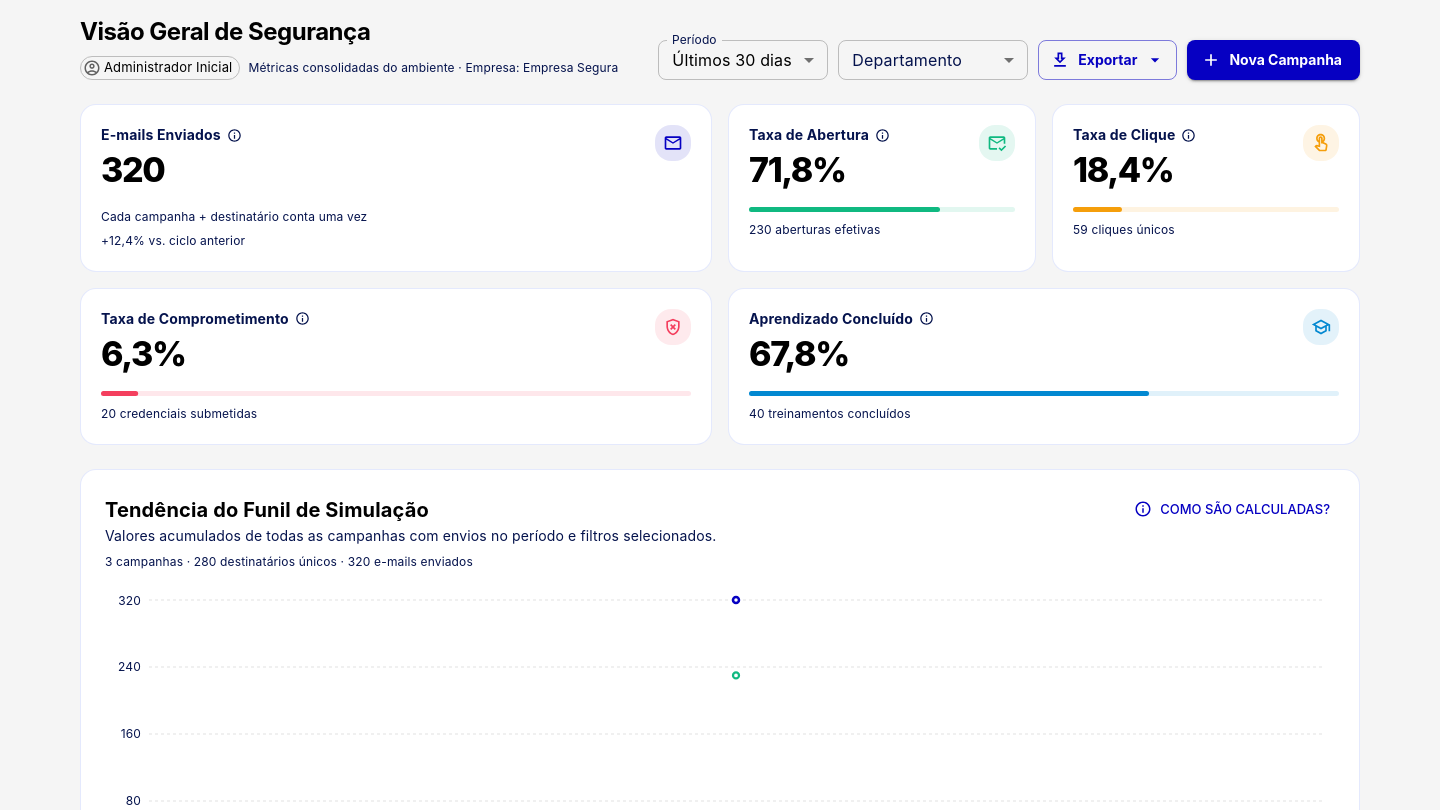
Scenario: AdminDashboard — visão executiva essencial › exporta PDF com token, filtros ativos e filename UTF-8 do backend
Check: the text "Empresa Segura" is shown, box [523, 60, 618, 75]
What coordinates should you click on to do the following:
click the button "Exportar"
I would click on:
 (1108, 60)
Its box is [1038, 40, 1177, 80].
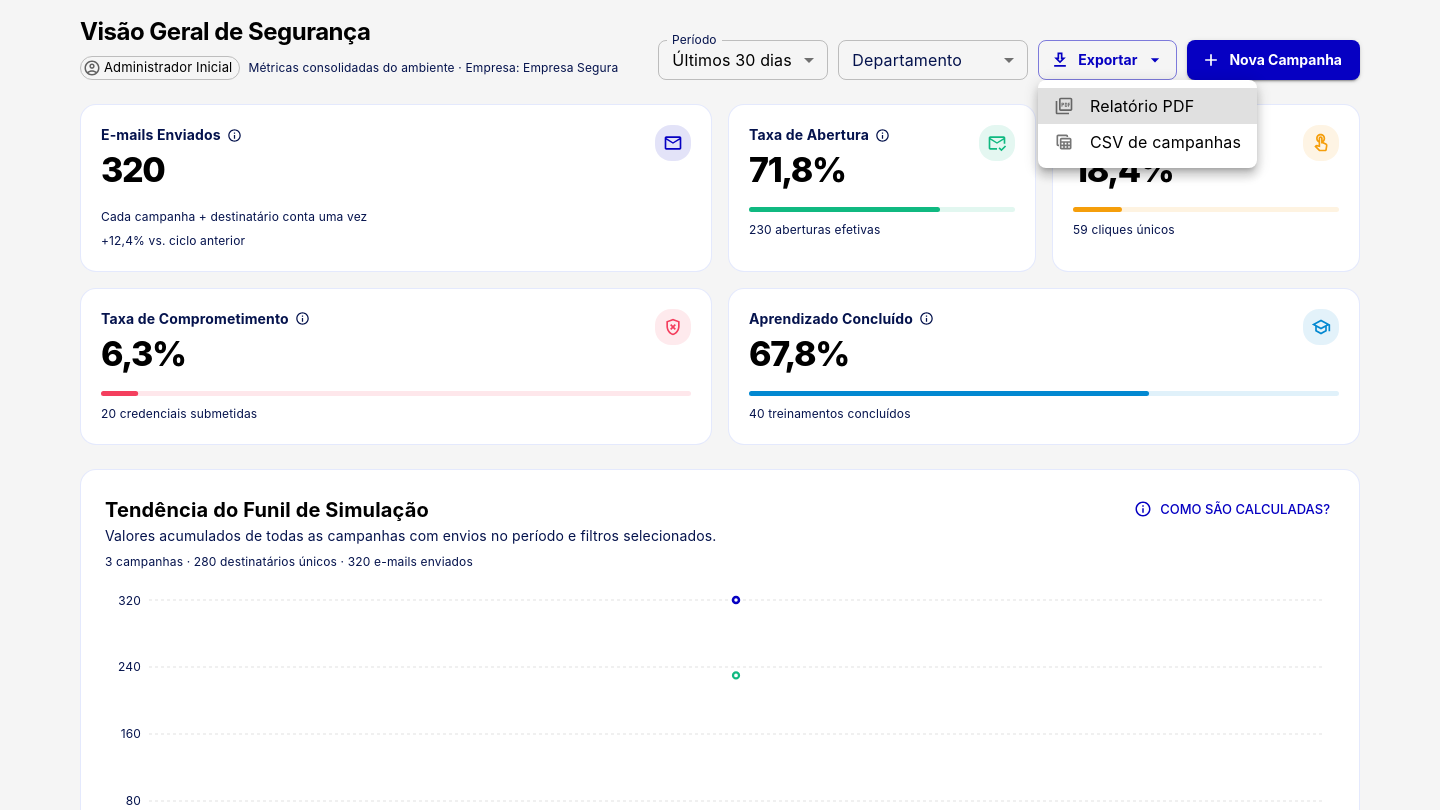
What coordinates should you click on to do the following:
click the menu item "Relatório PDF"
I would click on:
 (1148, 106)
Its box is [1038, 88, 1257, 124].
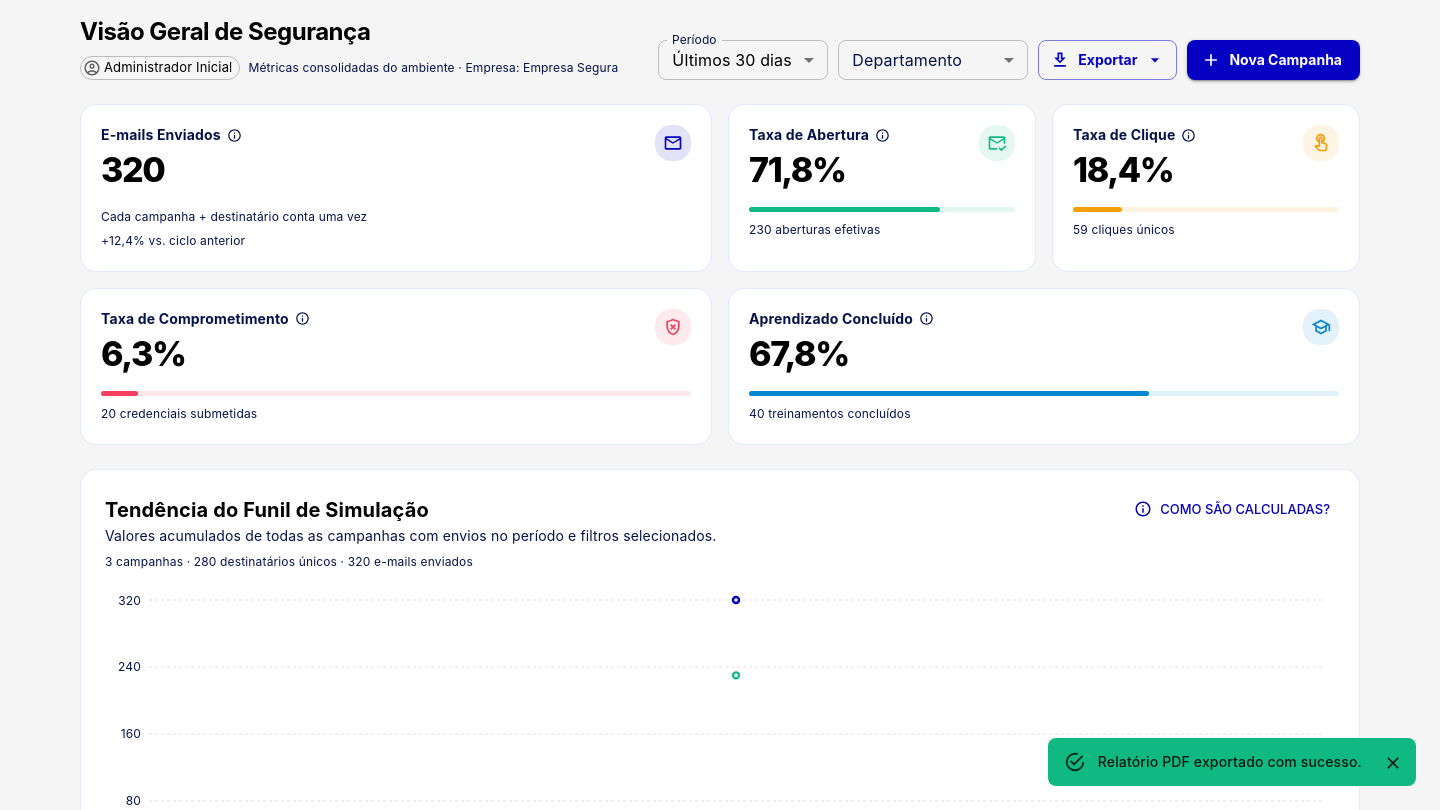
Check: the text "Relatório PDF exportado com sucesso." is shown, box [1098, 753, 1362, 770]
